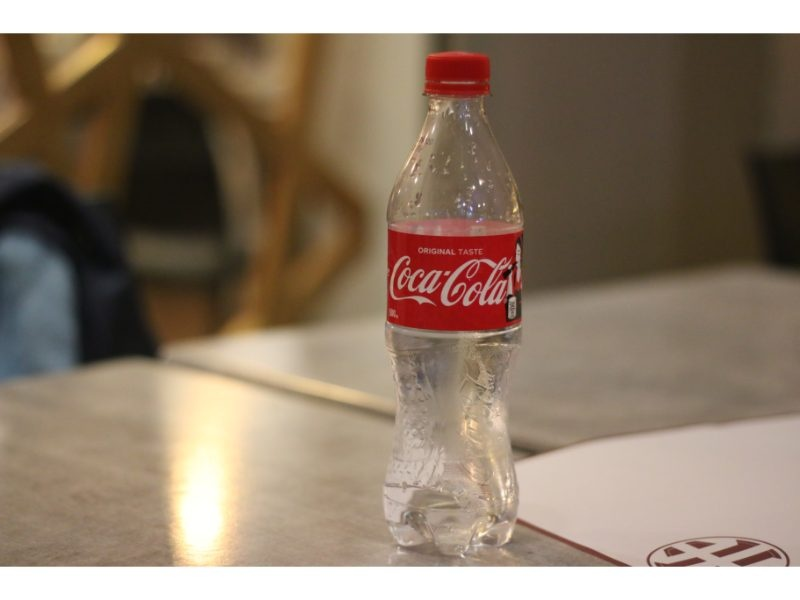PET #1: (380, 45, 527, 553)
